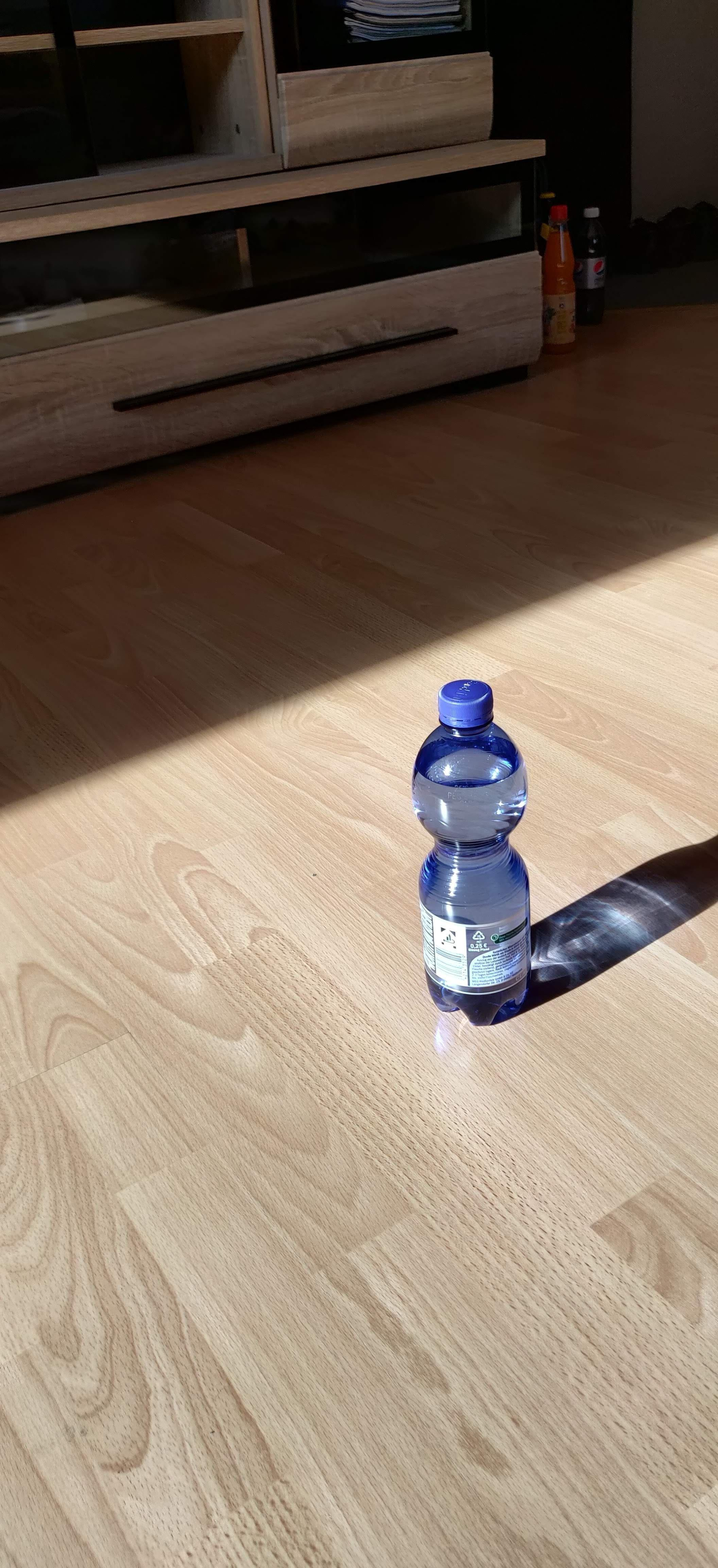bottle-plastic: (413, 674, 535, 1027)
